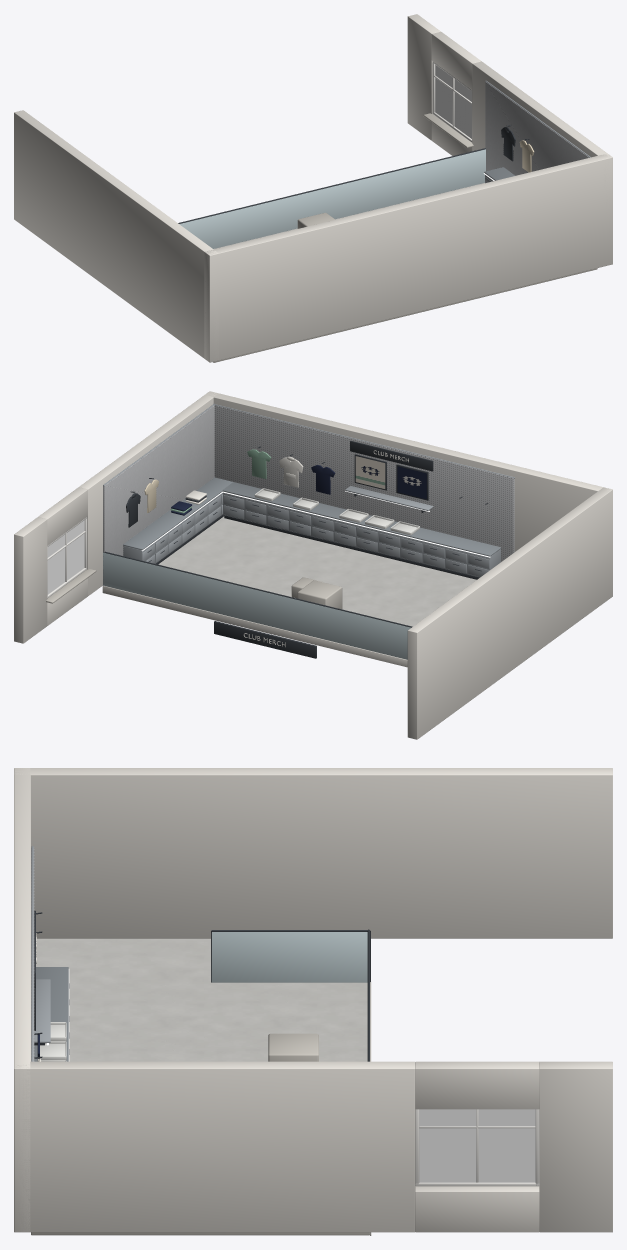
The model's file is mezz.glb.
3 views of the same model, one above another, from view 1: azimuth 30°, elevation 25°; view 2: azimuth 150°, elevation 25°; view 3: azimuth 270°, elevation 25° (orthographic). The views are drawn at different scales.
Visible parts, largest first — view 1: shop_mezz, shop_windows_upper; view 2: shop_mezz, shop_windows_upper; view 3: shop_mezz, shop_windows_upper.
Part boxes in pixels (x1=…): shop_mezz: x1=14, y1=14, x2=612, y2=362; shop_windows_upper: x1=435, y1=65, x2=471, y2=138; shop_mezz: x1=14, y1=391, x2=612, y2=739; shop_windows_upper: x1=47, y1=520, x2=84, y2=594; shop_mezz: x1=14, y1=768, x2=612, y2=1235; shop_windows_upper: x1=419, y1=1109, x2=535, y2=1182.
Size of the model in its own units: 12.6 by 3.8 by 10.6.
Materials: 10 (3 with a texture image).
